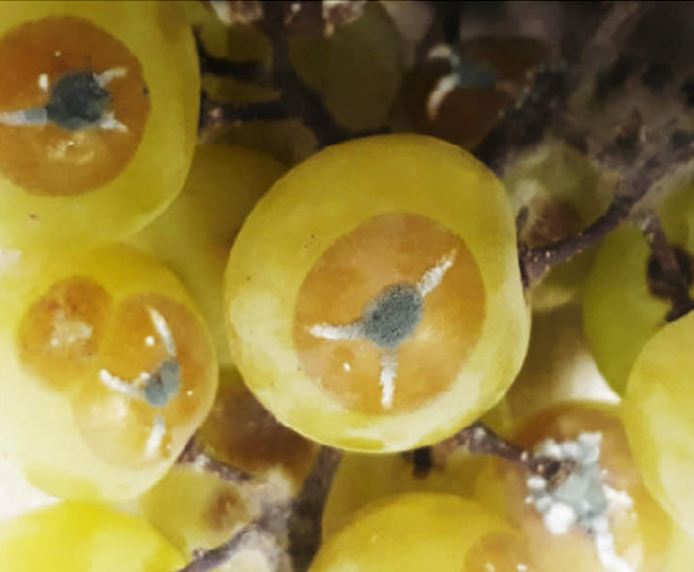Penicillium: (521, 438, 637, 555), (98, 334, 195, 453), (12, 63, 131, 138), (356, 282, 428, 356)
